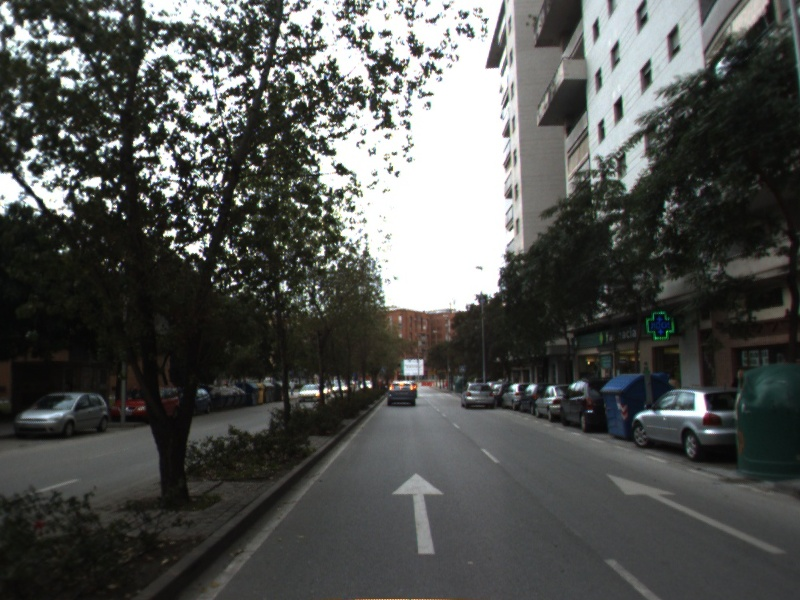STRAIGHT: (605, 472, 789, 556), (389, 471, 447, 556)
